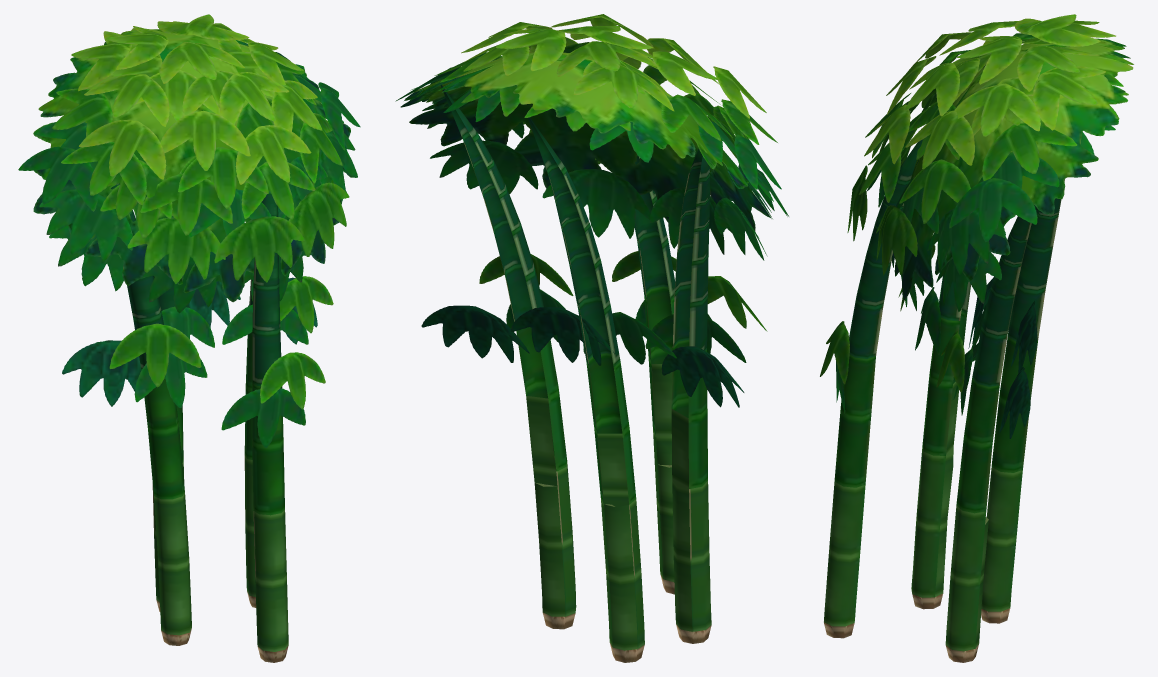
File: bamboo.glb
The picture shows the model from 3 angles, left to right: view 1: azimuth 30°, elevation 25°; view 2: azimuth 150°, elevation 25°; view 3: azimuth 270°, elevation 25°; orthographic projection. The views are drawn at different scales.
Bounding box in the file's own units: 20.81 × 34.17 × 16.76.
Materials: 3 (3 with a texture image).
